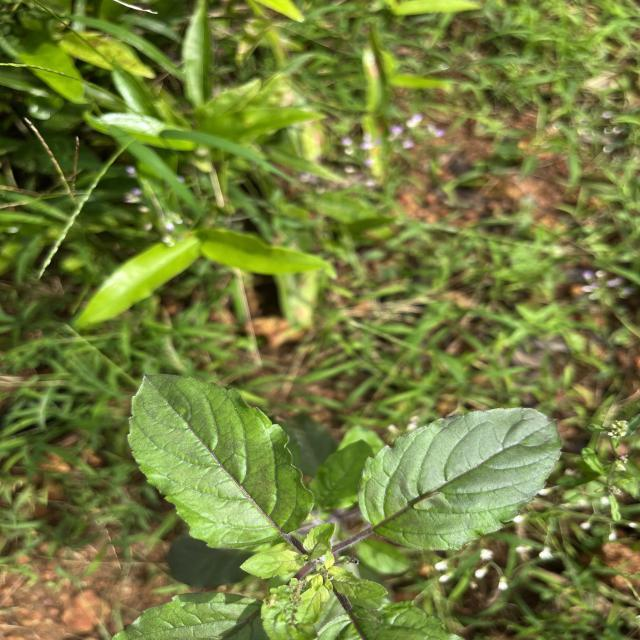Ocimum tenuiflorum: (125, 372, 318, 550), (356, 406, 564, 554)
